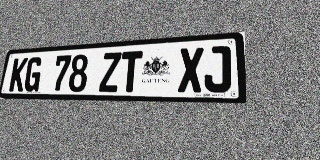7: (50, 55, 72, 92)
8: (68, 54, 89, 92)
G: (23, 57, 43, 92)
J: (204, 45, 231, 92)
K: (8, 58, 28, 92)
T: (119, 51, 143, 92)
X: (178, 47, 204, 92)
Z: (99, 52, 122, 92)
